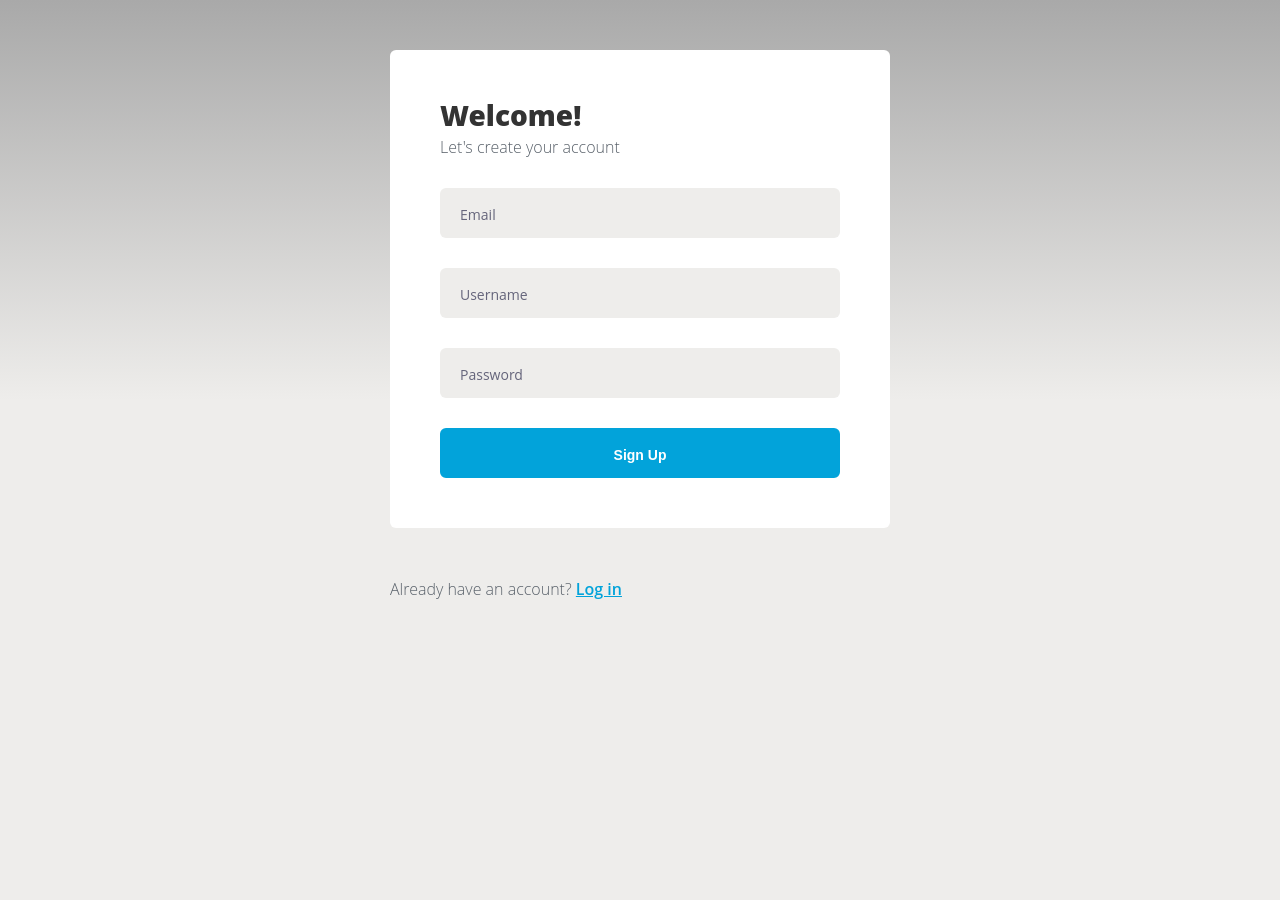
Test case: SignUp › should display API error messages when unsuccessful
In the field named "Email": [640, 213] box [440,188,840,238], type "celine@test.com"
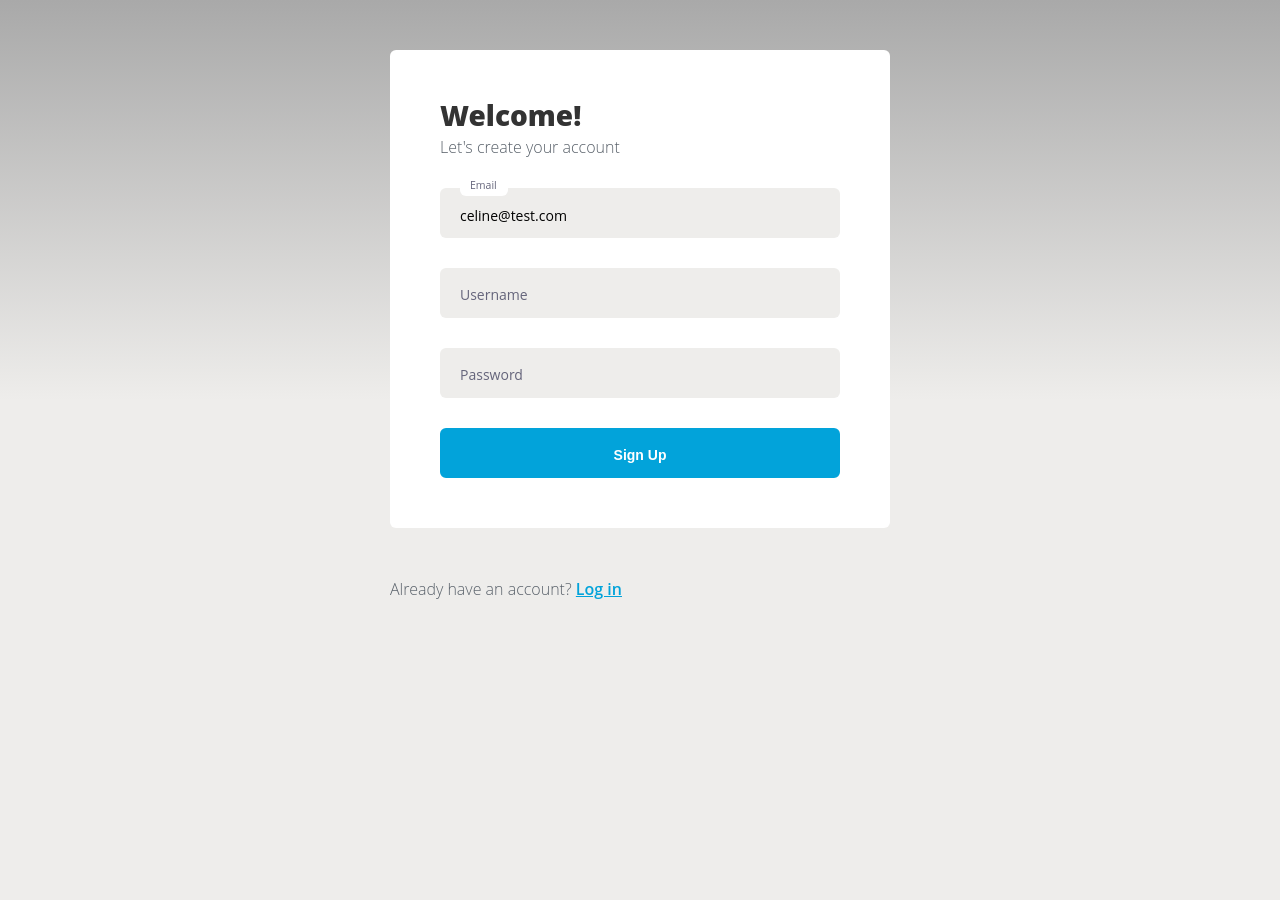
In the field named "Username": [640, 293] box [440,268,840,318], type "Celine"
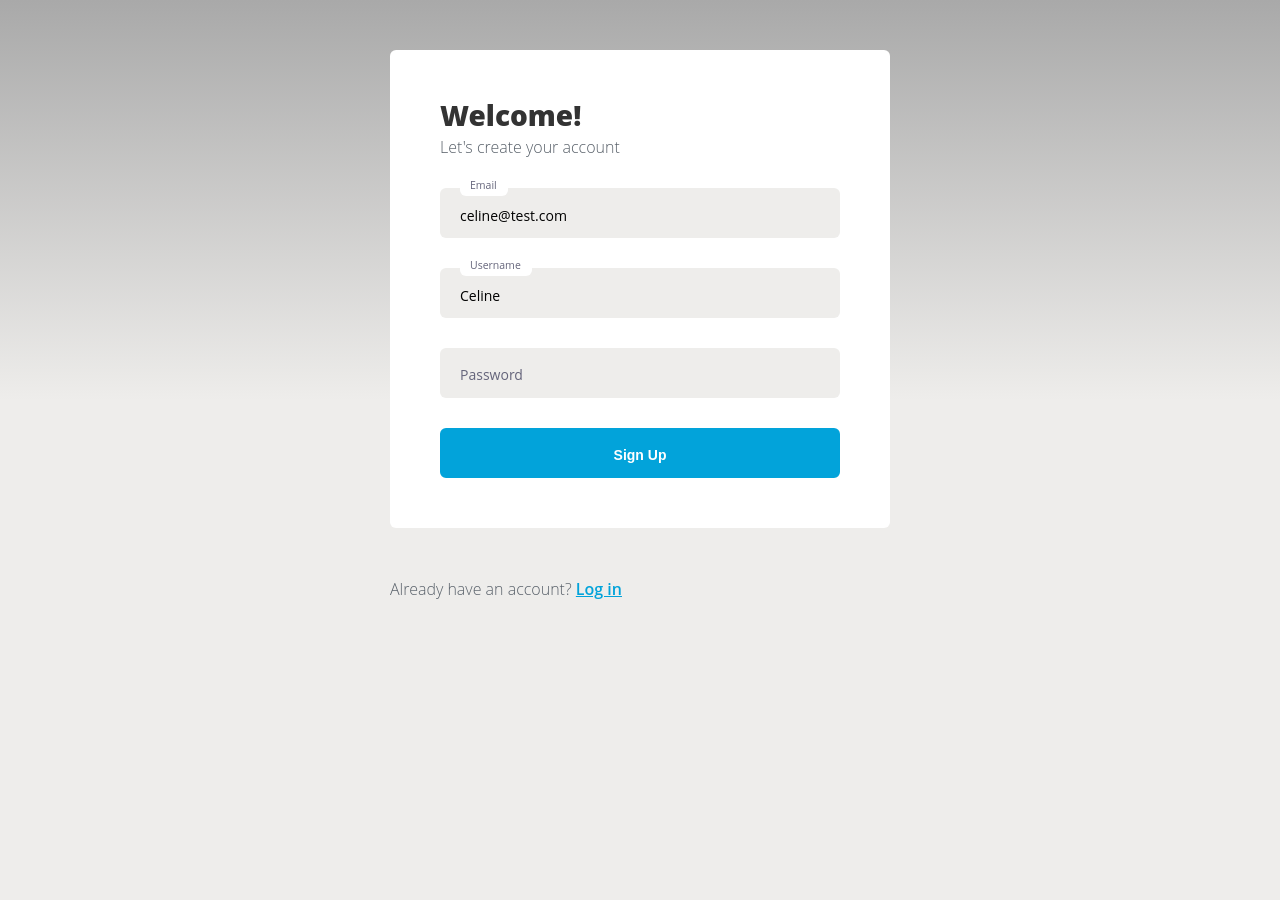
In the password field named "Password": [640, 373] box [440,348,840,398], type "abcd12345"
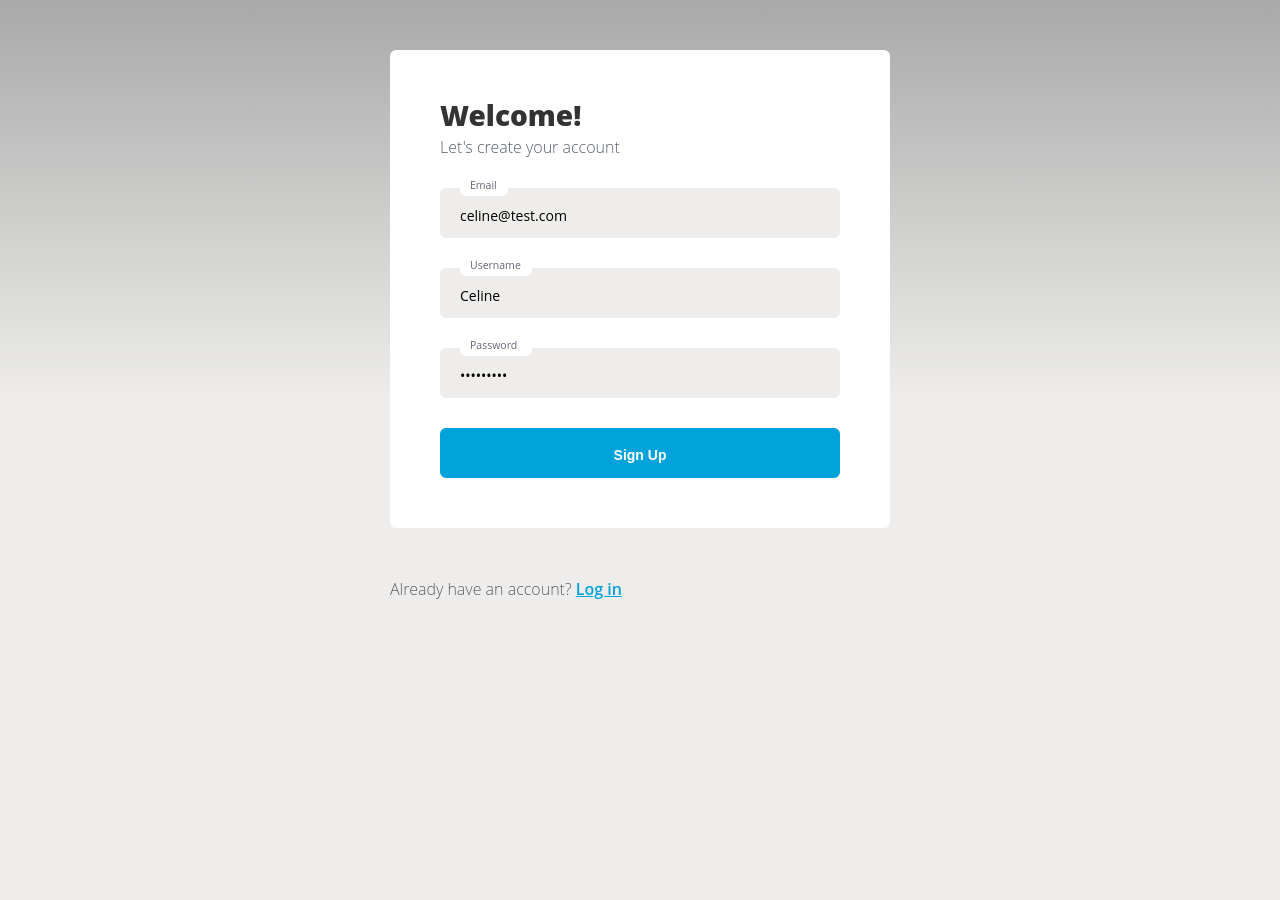
Click the button "Sign Up": [640, 453] box [440,428,840,478]
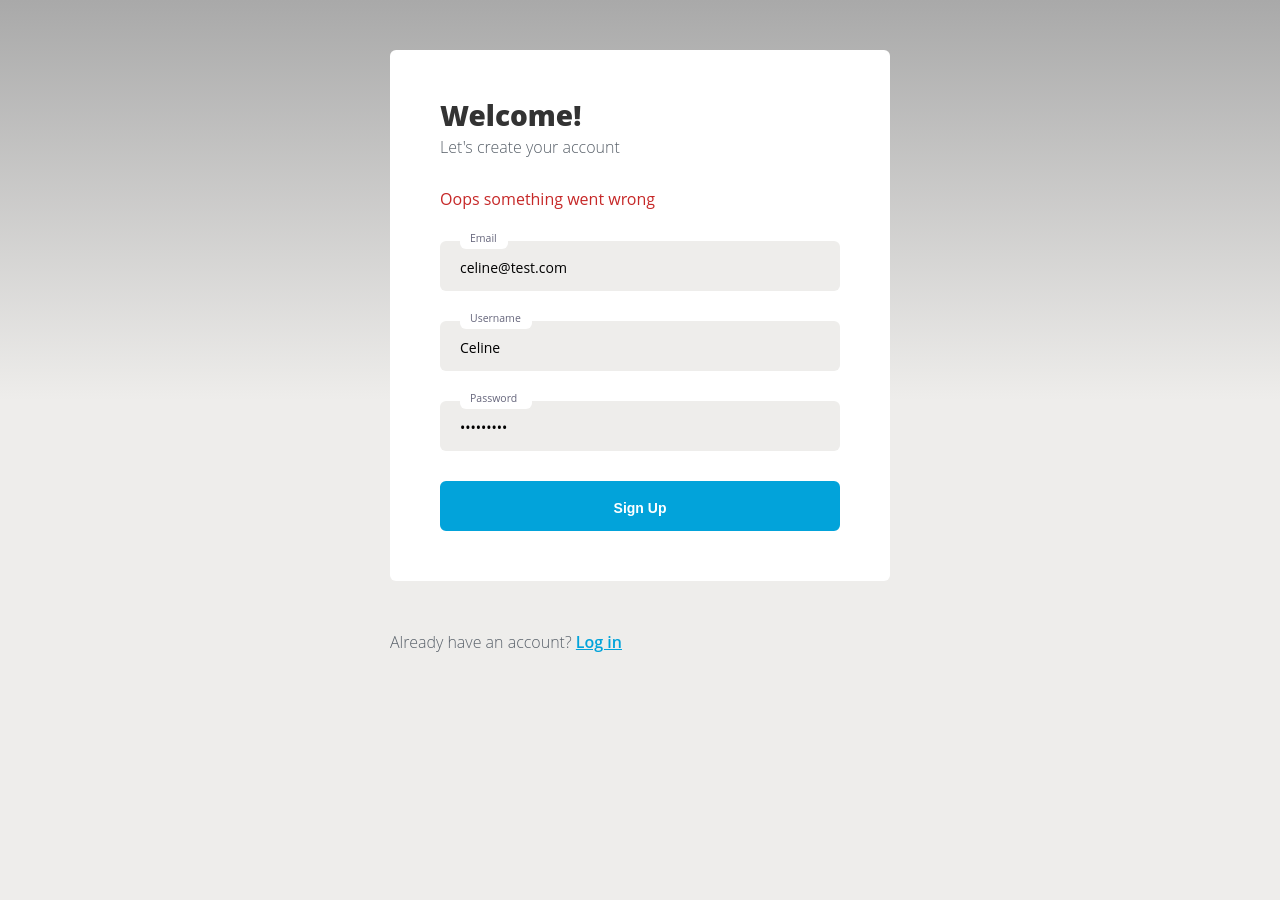
Expected: the text "Oops something went wrong" is shown, [440,188,655,210]
